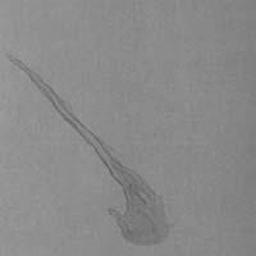Water spot: (5, 52, 177, 247)
